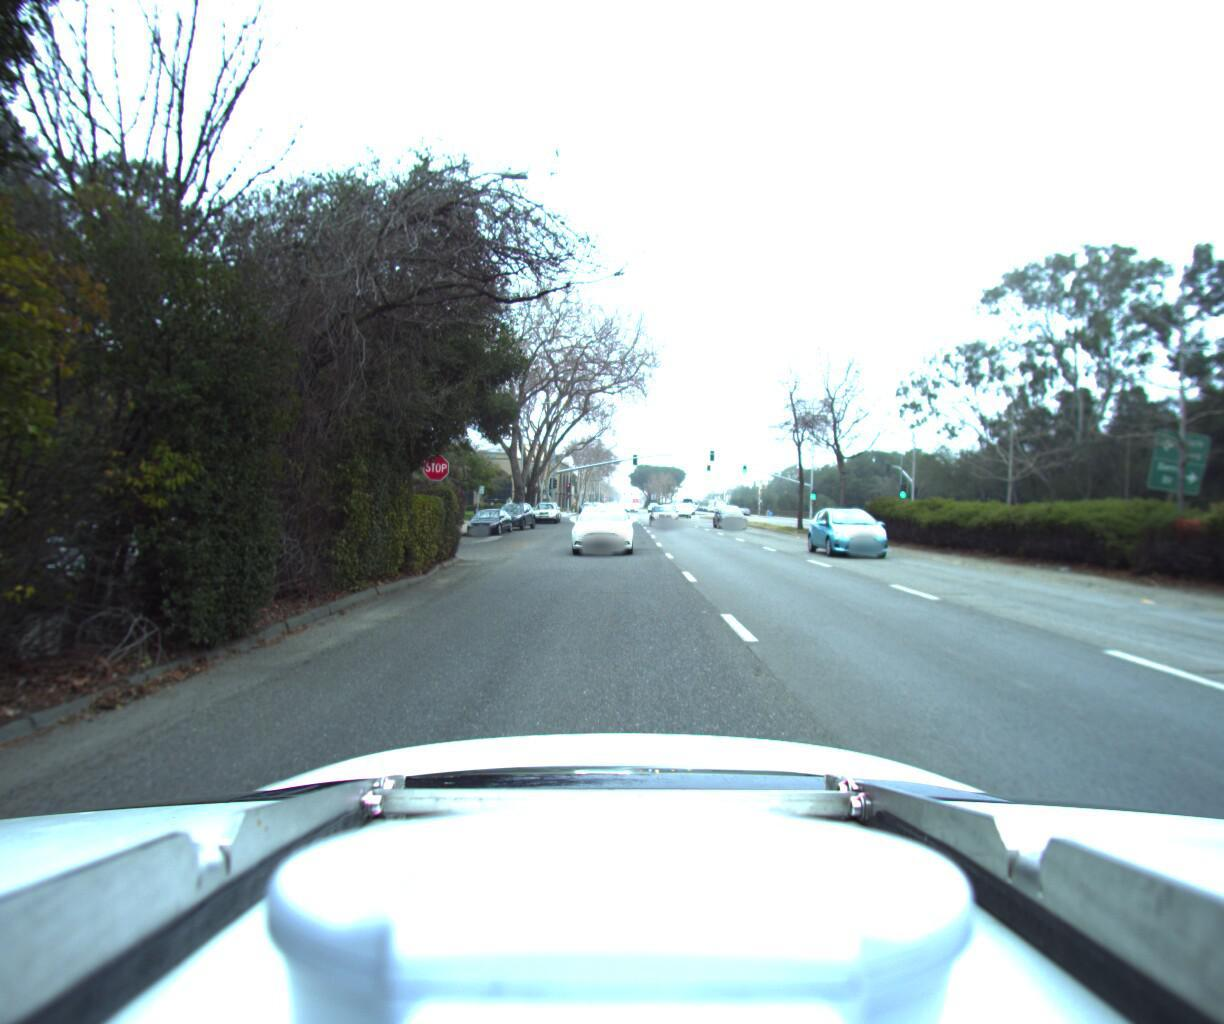car: (812, 499, 916, 557), (567, 494, 640, 551), (462, 499, 518, 530), (489, 493, 540, 525), (714, 500, 754, 526), (651, 497, 684, 522), (533, 493, 561, 517)
